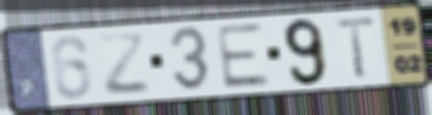3: (166, 23, 213, 96)
6: (48, 34, 93, 101)
9: (280, 16, 329, 87)
E: (213, 22, 274, 92)
T: (333, 14, 379, 81)
Z: (95, 32, 153, 98)
